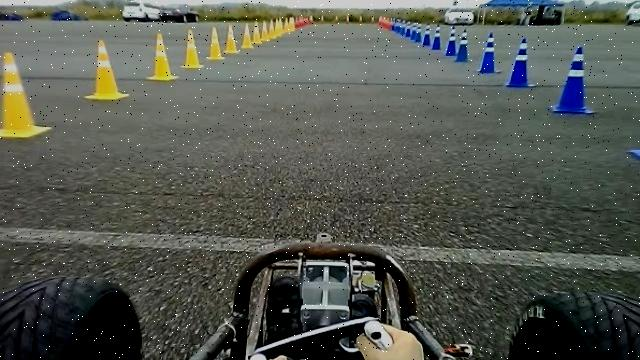blue cone: (552, 46, 595, 114), (506, 37, 537, 87), (628, 65, 640, 166), (478, 32, 501, 74), (456, 28, 472, 61), (444, 26, 458, 56), (432, 24, 442, 50), (422, 24, 432, 45)
yellow cone: (0, 51, 53, 138), (85, 39, 130, 100), (147, 32, 179, 80), (180, 28, 204, 68), (207, 26, 226, 59), (224, 24, 240, 53), (242, 22, 254, 48), (252, 20, 262, 44), (261, 19, 271, 41)
